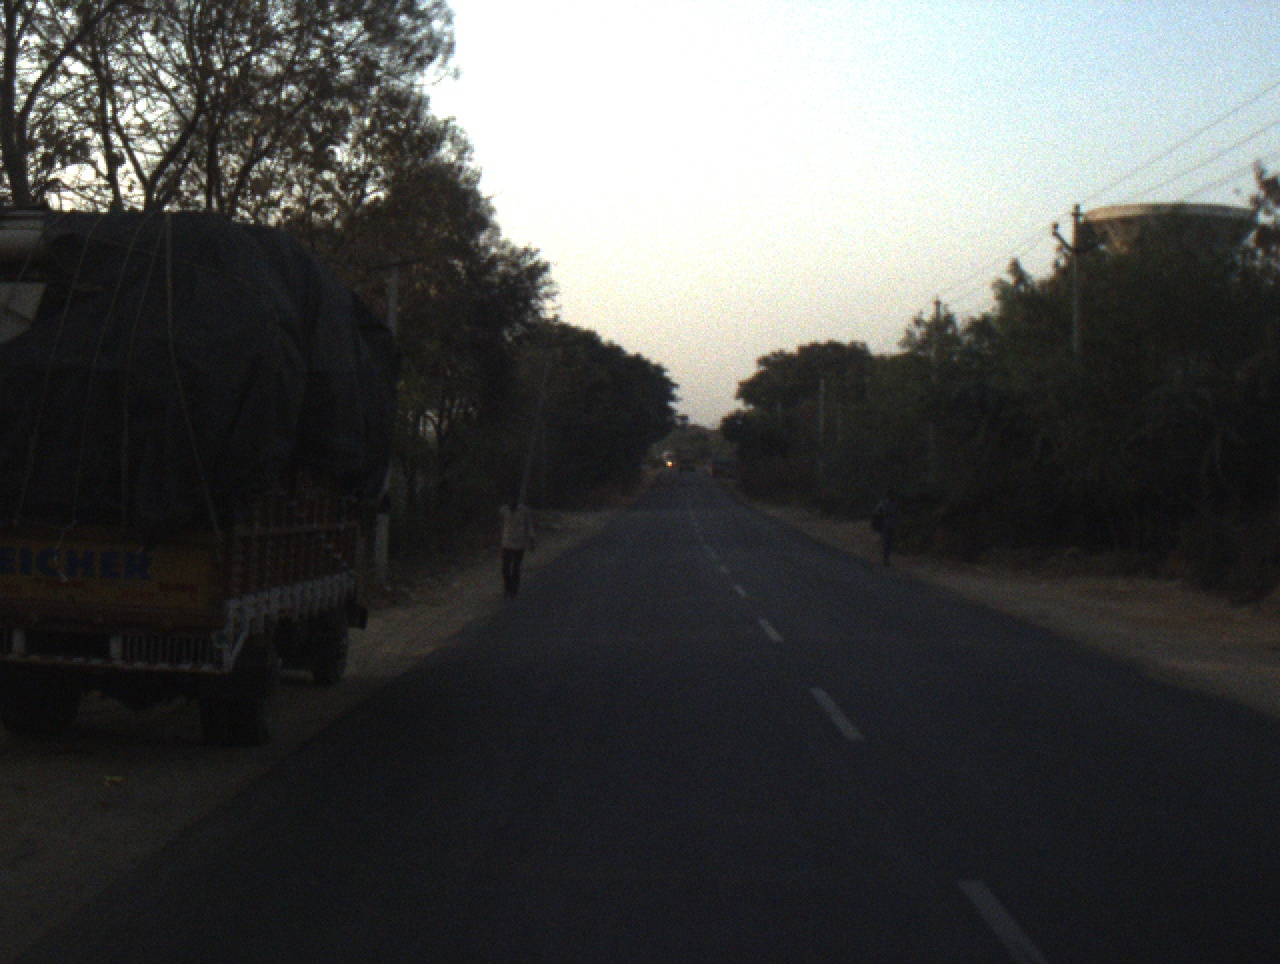person: (489, 483, 535, 599), (867, 486, 902, 569)
truck: (2, 201, 394, 772), (673, 443, 697, 473), (703, 454, 727, 478)
vehicle fallback: (656, 447, 676, 470)
